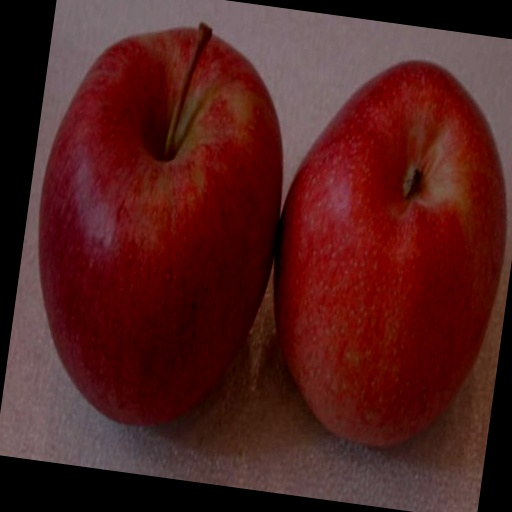fruit: (38, 27, 281, 424), (274, 62, 505, 446)
